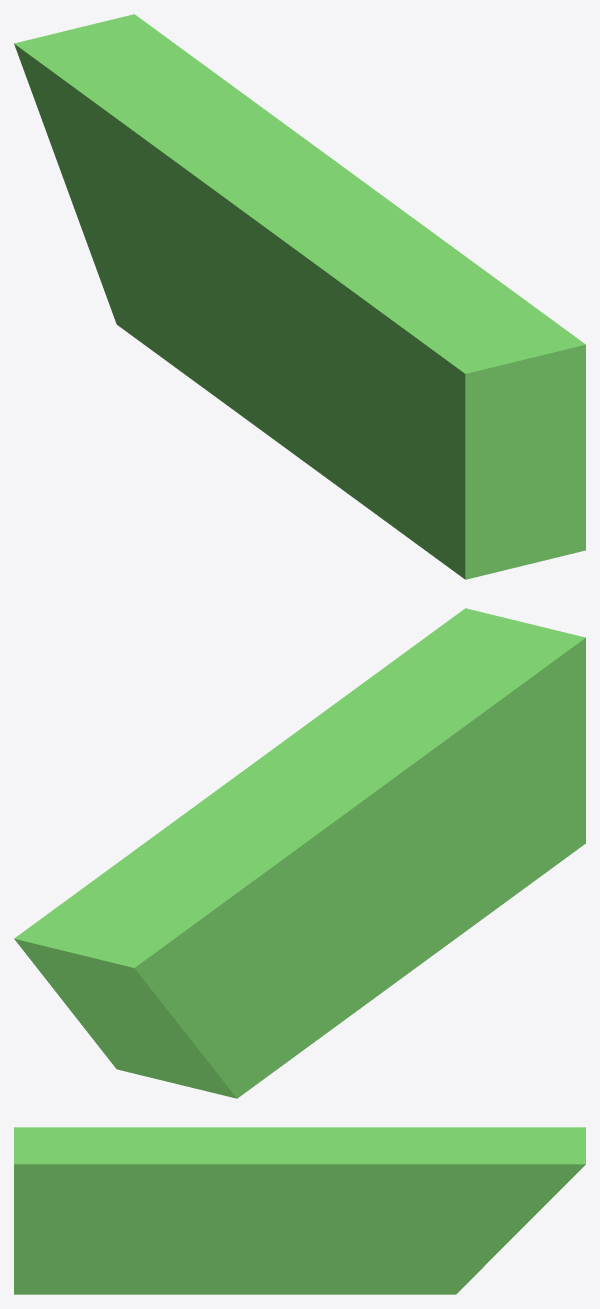
The model's file is sm_Collider36.fbx.
3 renders of one model, top to bottom at view 1: azimuth 30°, elevation 25°; view 2: azimuth 150°, elevation 25°; view 3: azimuth 270°, elevation 25°, orthographic. The views are drawn at different scales.
Parts seen in each view (by area): view 1: sm_Collider.045; view 2: sm_Collider.045; view 3: sm_Collider.045.
Part boxes in pixels (box(x1,y1,x2,y2)): sm_Collider.045: box(14, 14, 585, 579); sm_Collider.045: box(14, 608, 585, 1098); sm_Collider.045: box(14, 1127, 585, 1294).
Bounding box in the file's own units: 216 × 352 × 1400.
